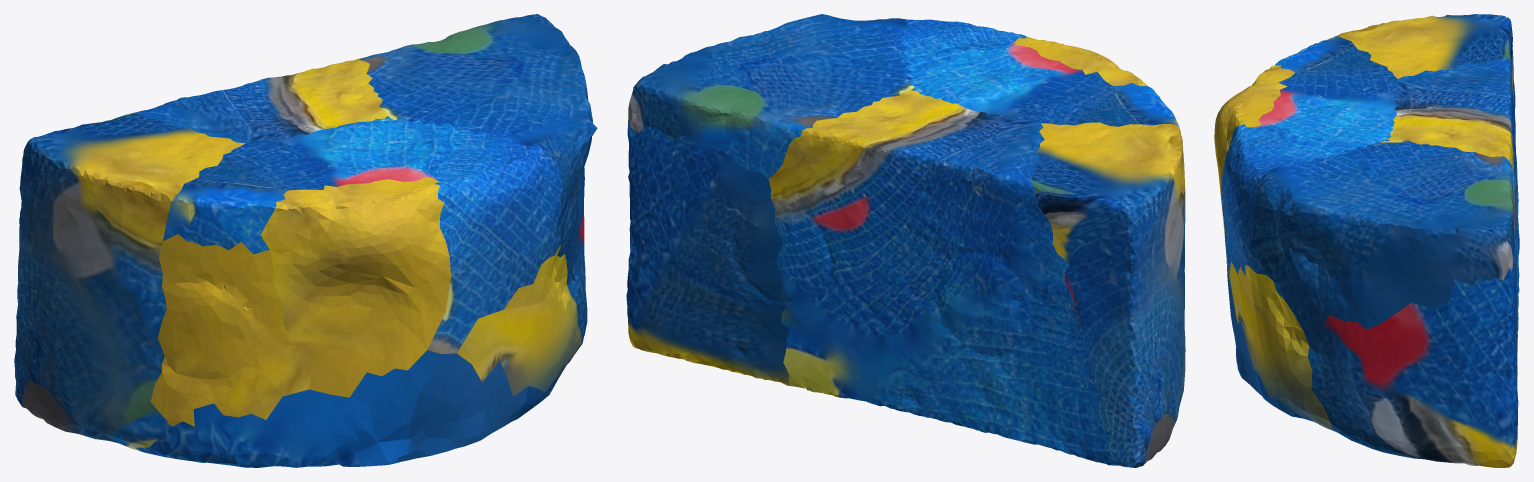
The model's file is half_cylinder_D10_W5_scanned.obj.
The picture shows the model from 3 angles, left to right: view 1: azimuth 30°, elevation 25°; view 2: azimuth 150°, elevation 25°; view 3: azimuth 270°, elevation 25°; orthographic projection. The views are drawn at different scales.
Size of the model in its own units: 0.1 by 0.049 by 0.0569.
